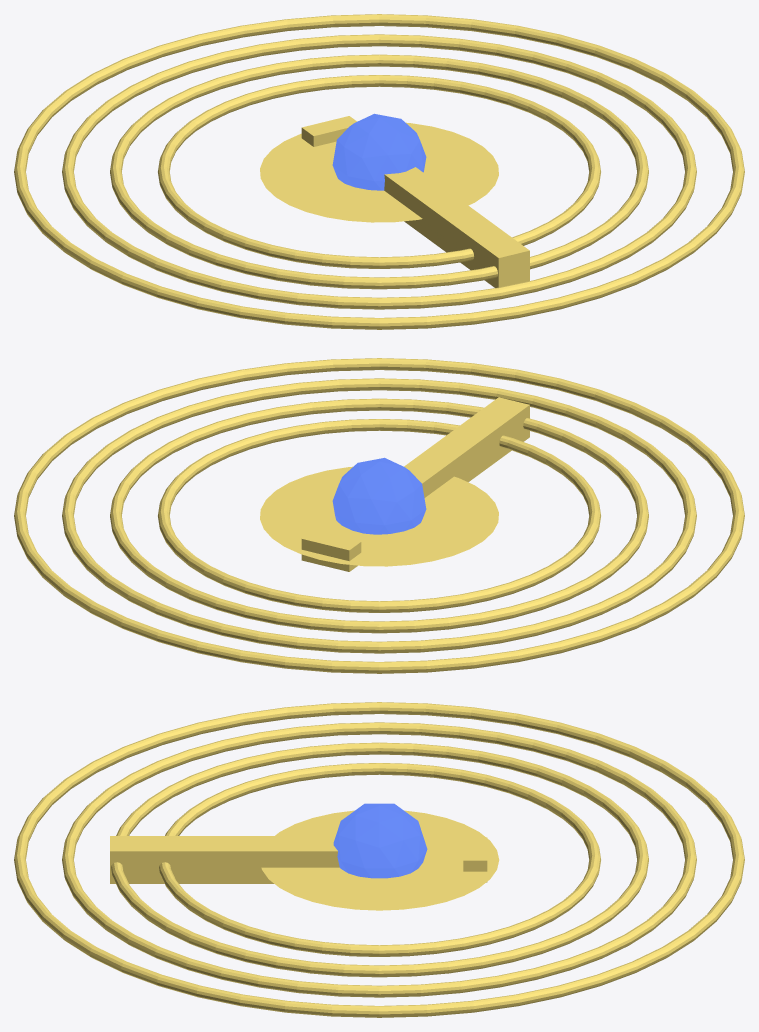
The model's file is chem_sigil.glb.
3 renders of one model, top to bottom at view 1: azimuth 30°, elevation 25°; view 2: azimuth 150°, elevation 25°; view 3: azimuth 270°, elevation 25°, orthographic.
Parts seen in each view (by area): view 1: Torus.003, Torus.002, Torus.001, Torus, Circle, Cube.001, Icosphere, Cube; view 2: Torus.003, Torus.002, Torus.001, Circle, Torus, Cube.001, Icosphere, Cube; view 3: Torus.003, Torus.002, Torus.001, Torus, Circle, Cube.001, Icosphere, Cube.
Part boxes in pixels (x1,y1,x2,y2): Torus.003: (14,14,744,329); Torus.002: (62,34,696,309); Torus.001: (110,54,648,289); Torus: (158,75,600,268); Circle: (260,122,498,222); Cube.001: (384,167,529,287); Icosphere: (332,113,426,190); Cube: (301,116,356,146); Torus.003: (14,358,744,673); Torus.002: (62,378,696,653); Torus.001: (110,398,648,633); Circle: (260,466,498,566); Torus: (158,419,600,612); Cube.001: (404,397,529,497); Icosphere: (332,457,426,534); Cube: (301,530,361,571); Torus.003: (14,702,744,1017); Torus.002: (62,722,696,997); Torus.001: (111,742,648,977); Torus: (159,763,600,956); Circle: (261,810,499,910); Cube.001: (110,836,339,883); Icosphere: (333,803,427,878); Cube: (463,837,487,882).
Bounding box in the file's own units: 6.1 × 0.8 × 6.1.
